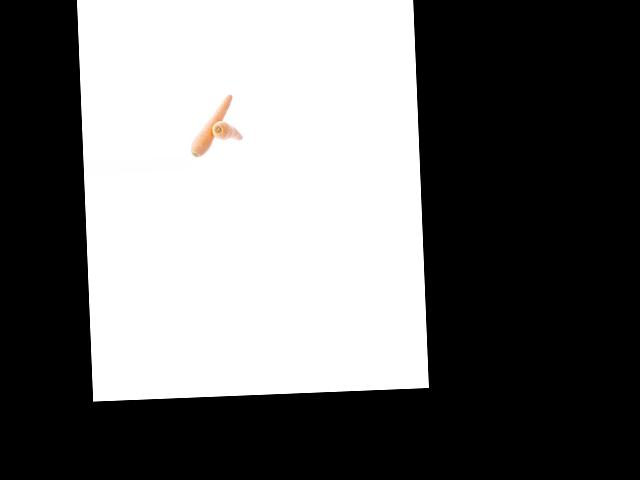carrot: (209, 120, 244, 145)
